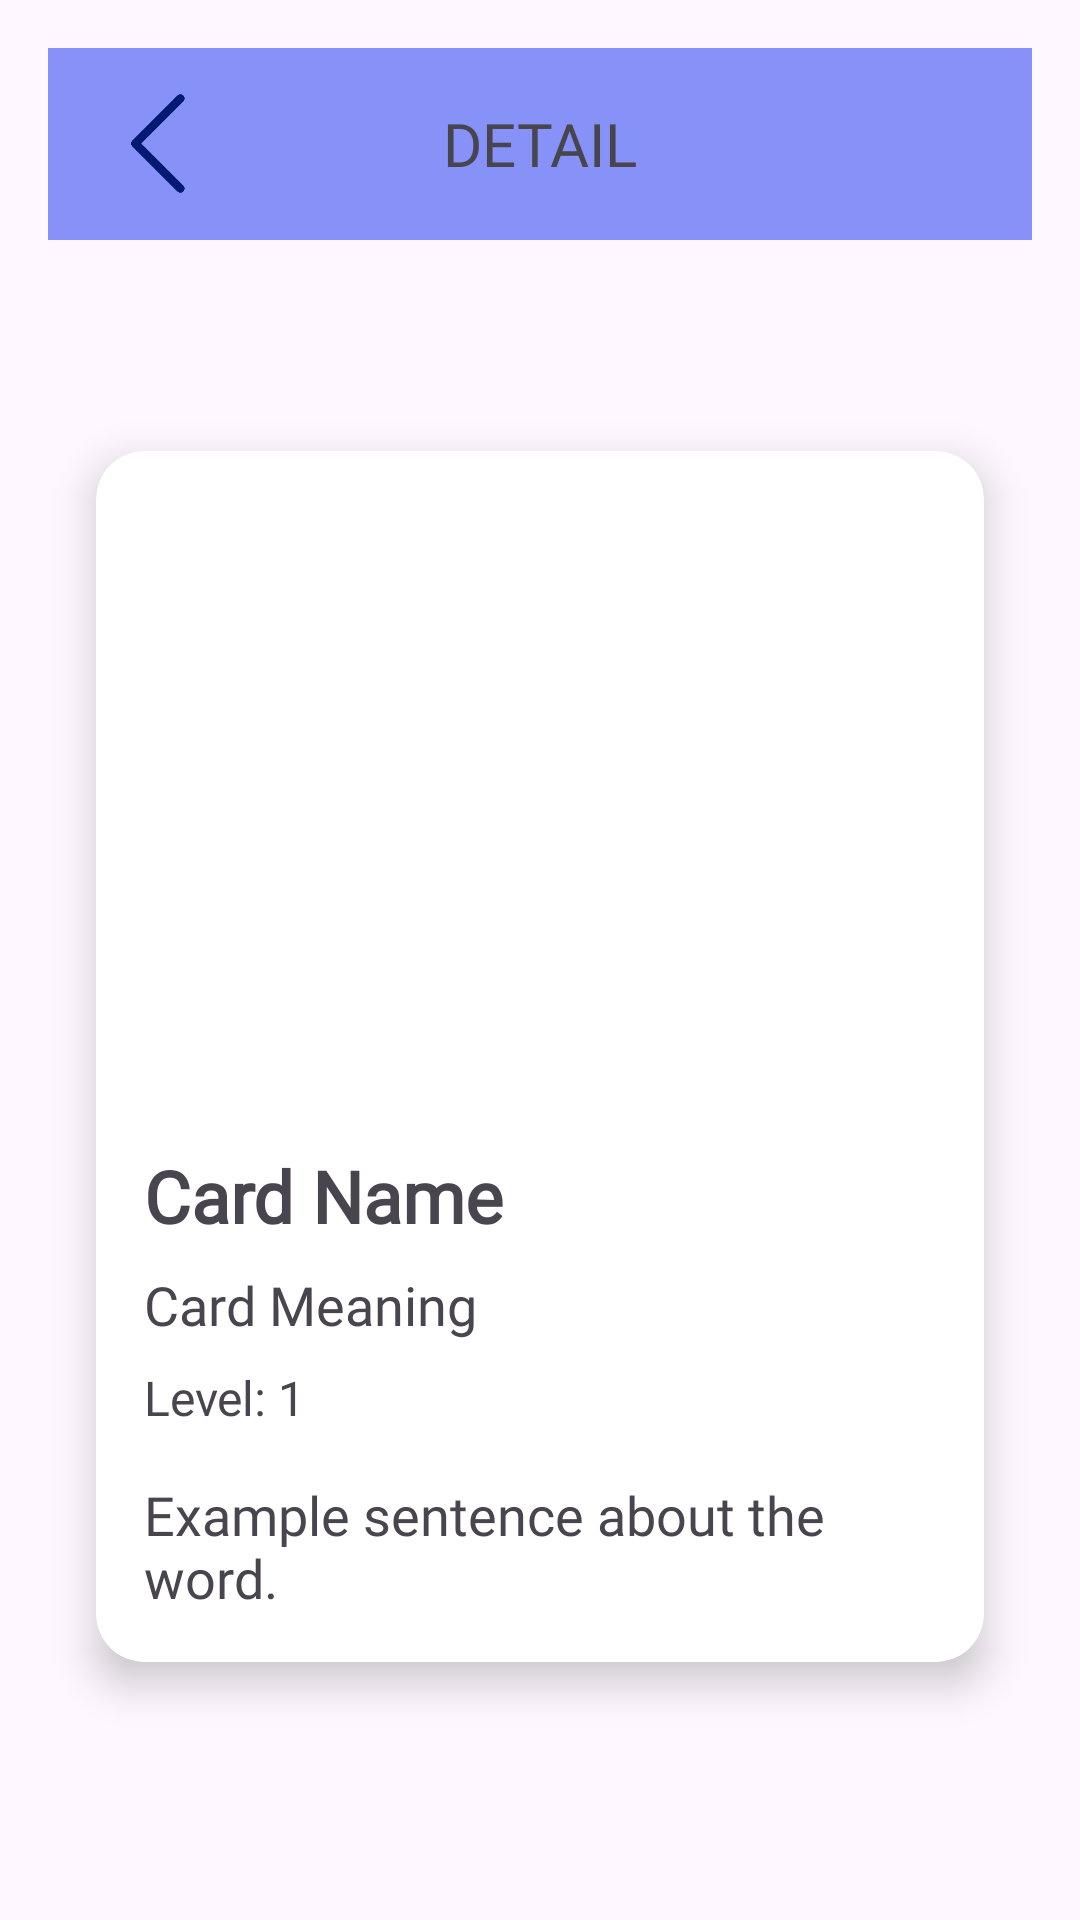

Where to tap for icons on this 1080 x 1920 app screen, as [x,y]:
back: [158,143]
